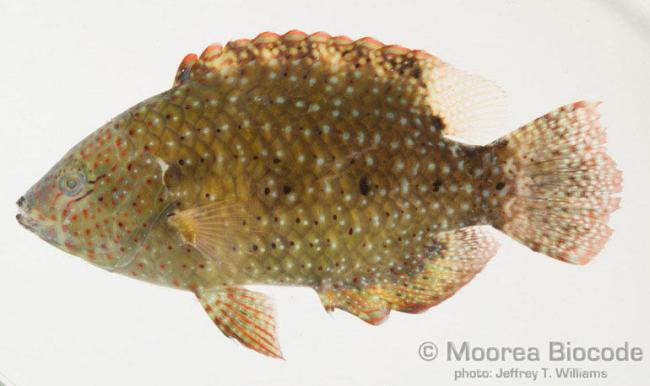fish: (15, 31, 624, 361)
